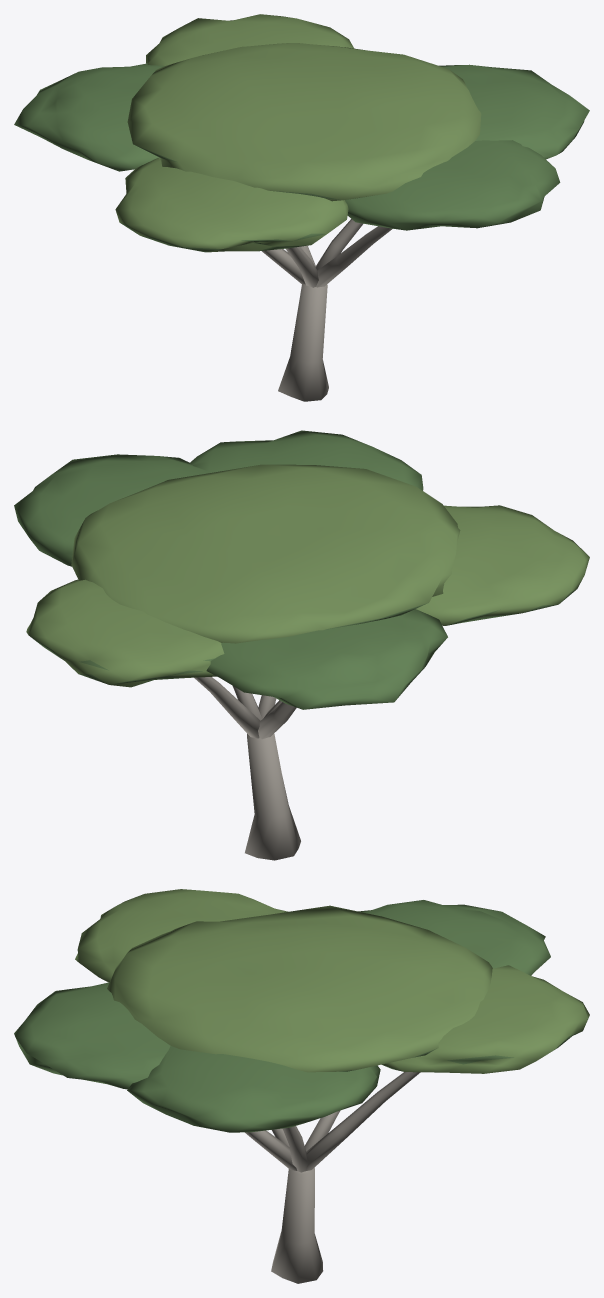
File: v_tree_acacia2.glb
The picture shows the model from 3 angles, top to bottom: view 1: azimuth 30°, elevation 25°; view 2: azimuth 150°, elevation 25°; view 3: azimuth 270°, elevation 25°; orthographic projection. The views are drawn at different scales.
Visible parts, largest first — view 1: Acacia; view 2: Acacia; view 3: Acacia.
Boxes of the visible parts, left/top/right/bottom form: Acacia: left=14, top=14, right=589, bottom=401; Acacia: left=14, top=430, right=589, bottom=860; Acacia: left=14, top=889, right=589, bottom=1283.
Size of what is drawn, in the model's own units: 7.92 by 4.78 by 8.19.
